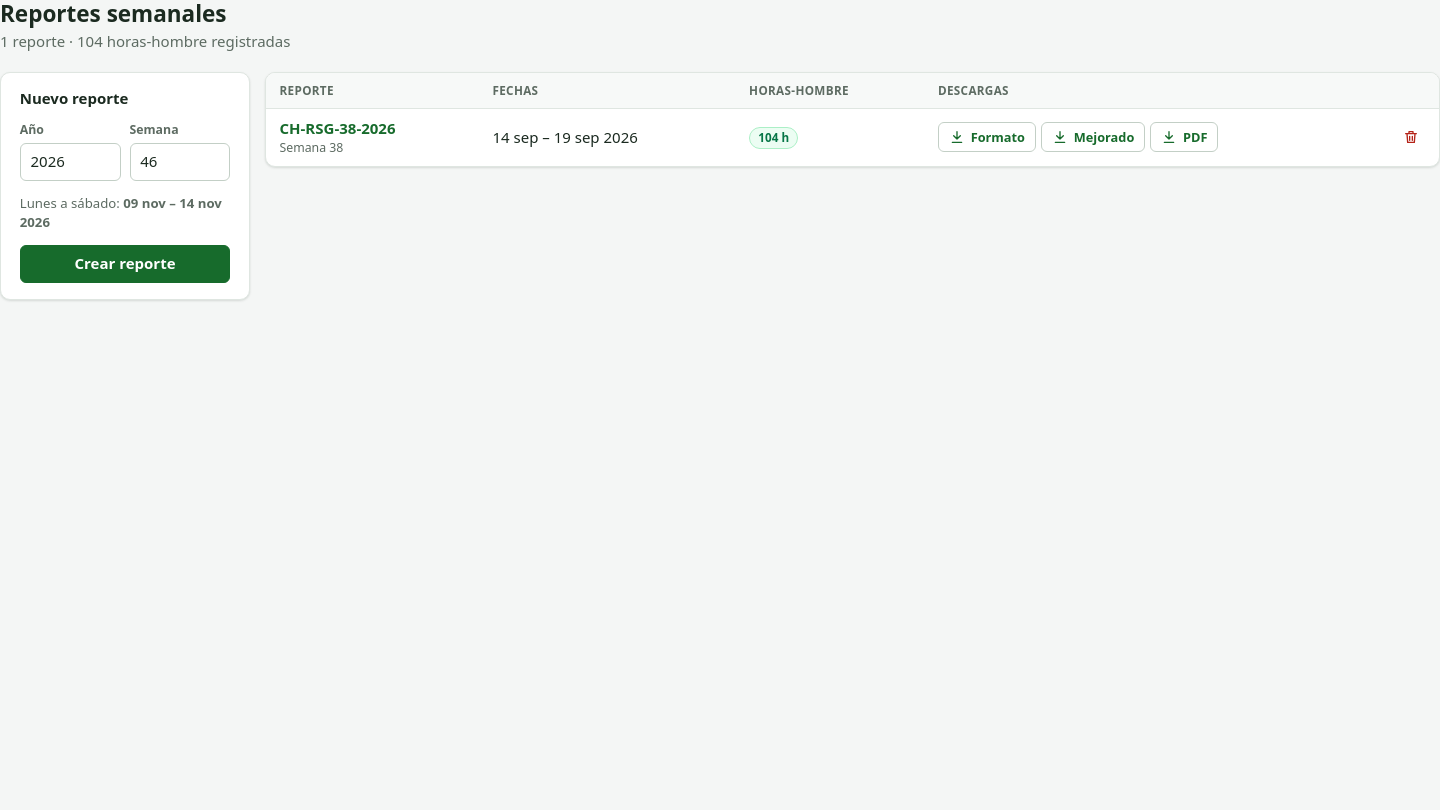
Test: pide confirmación antes de eliminar
Click the button named "Eliminar CH-RSG-38-2026".
click(1410, 137)  # box left=1396, top=122, right=1426, bottom=152
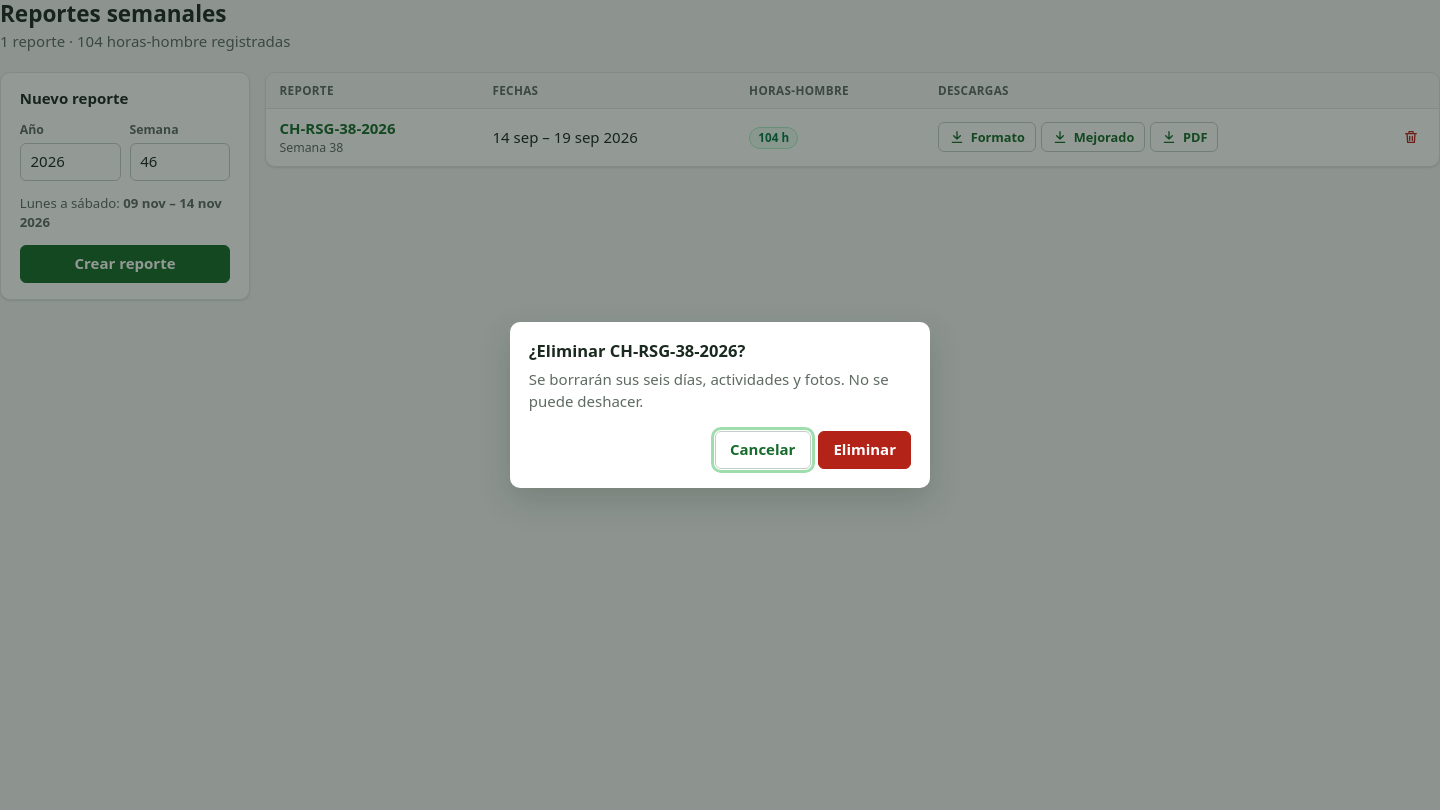
Click the button "Eliminar".
click(865, 450)  # box left=818, top=431, right=911, bottom=469
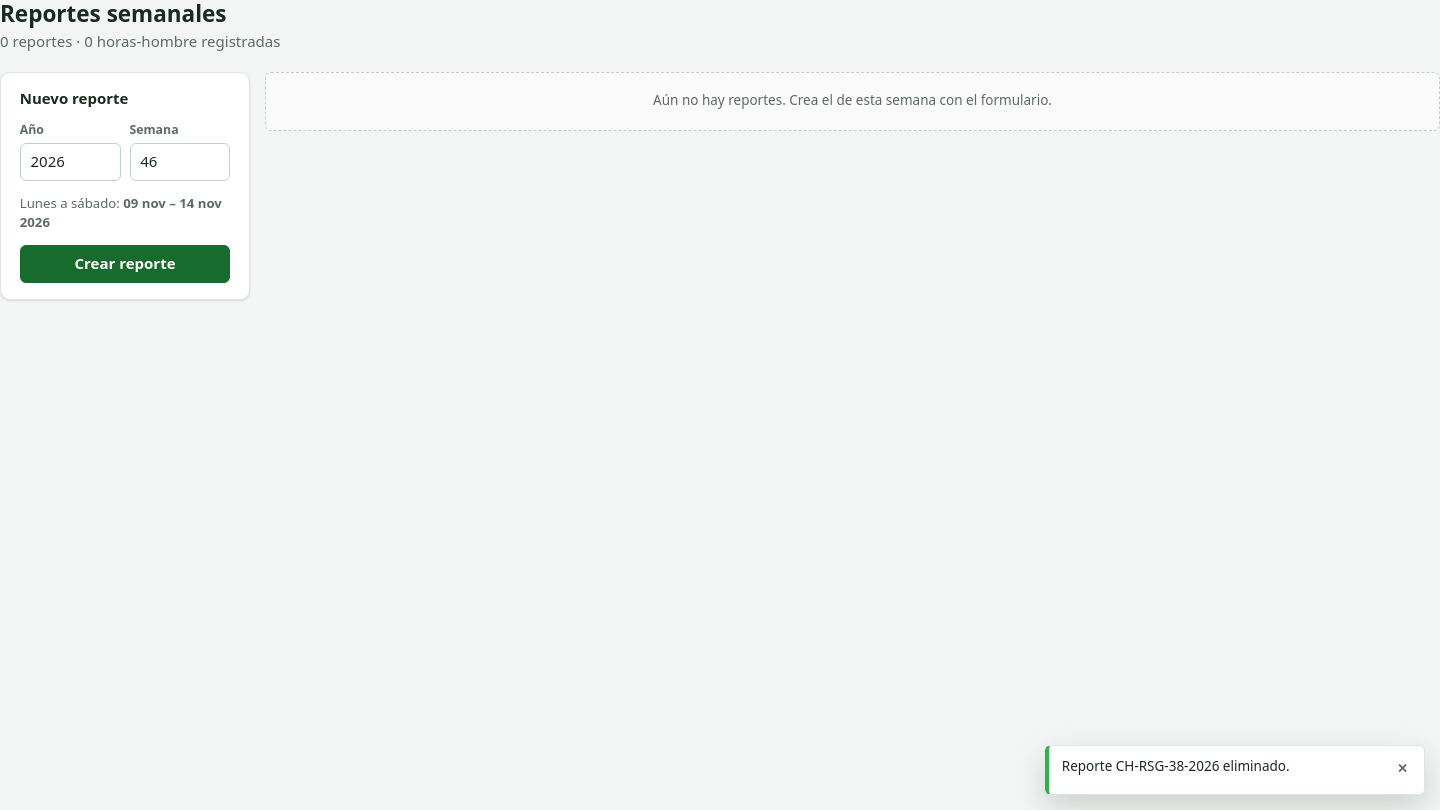
Now the message shows "Reporte CH-RSG-38-2026 eliminado.", box left=1062, top=757, right=1290, bottom=775
